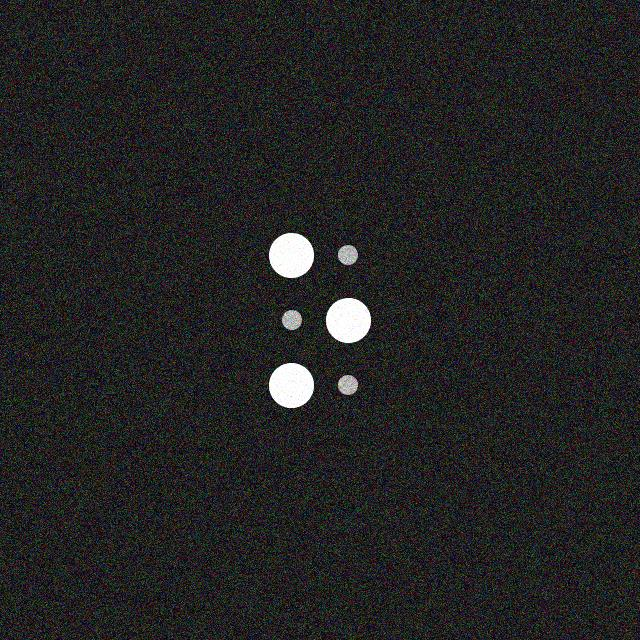O: (266, 228, 373, 413)
